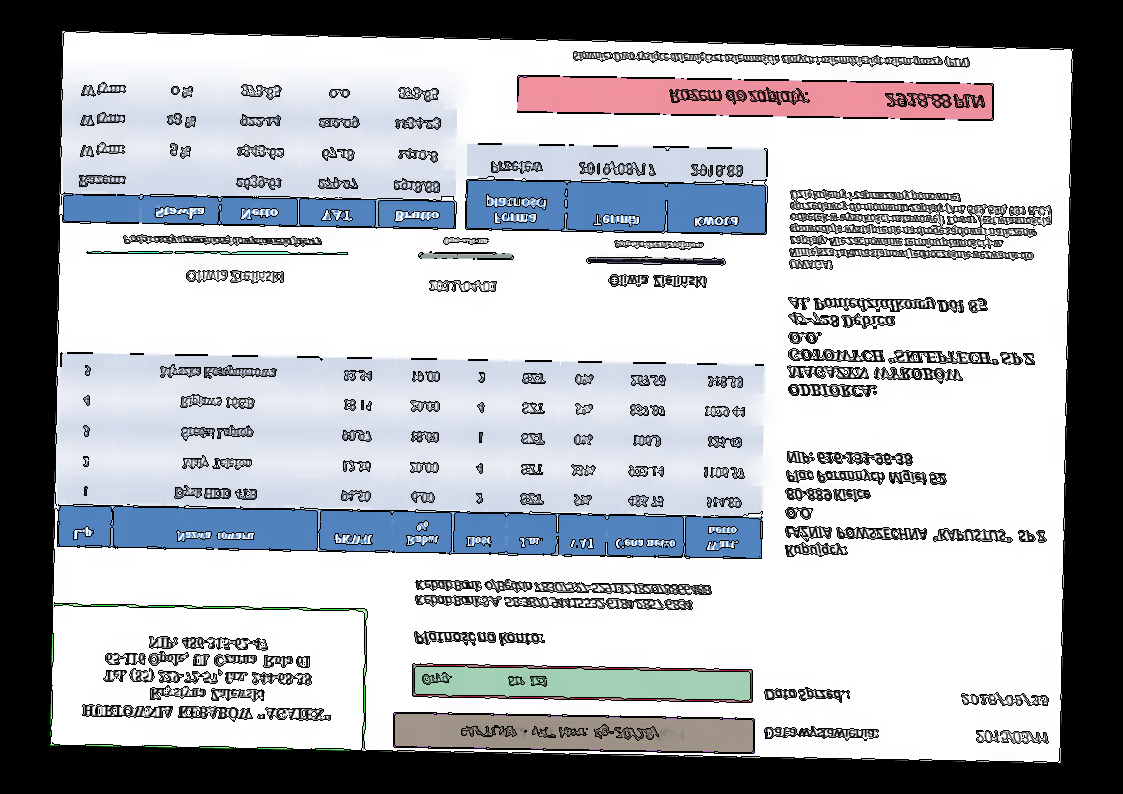Table: (55, 351, 767, 560), (61, 71, 459, 230), (464, 141, 768, 237)
TextBox: (781, 448, 1049, 564), (784, 292, 1038, 403), (78, 629, 335, 729), (787, 188, 1055, 278), (412, 577, 714, 615), (570, 47, 972, 74), (666, 86, 986, 114), (454, 722, 689, 744), (121, 231, 324, 251), (762, 721, 880, 746), (411, 628, 546, 649), (418, 671, 551, 691), (182, 267, 288, 288), (957, 689, 1051, 710), (605, 273, 708, 291), (763, 685, 852, 705), (974, 728, 1050, 747), (611, 239, 706, 253), (427, 277, 498, 295), (440, 236, 490, 247)
